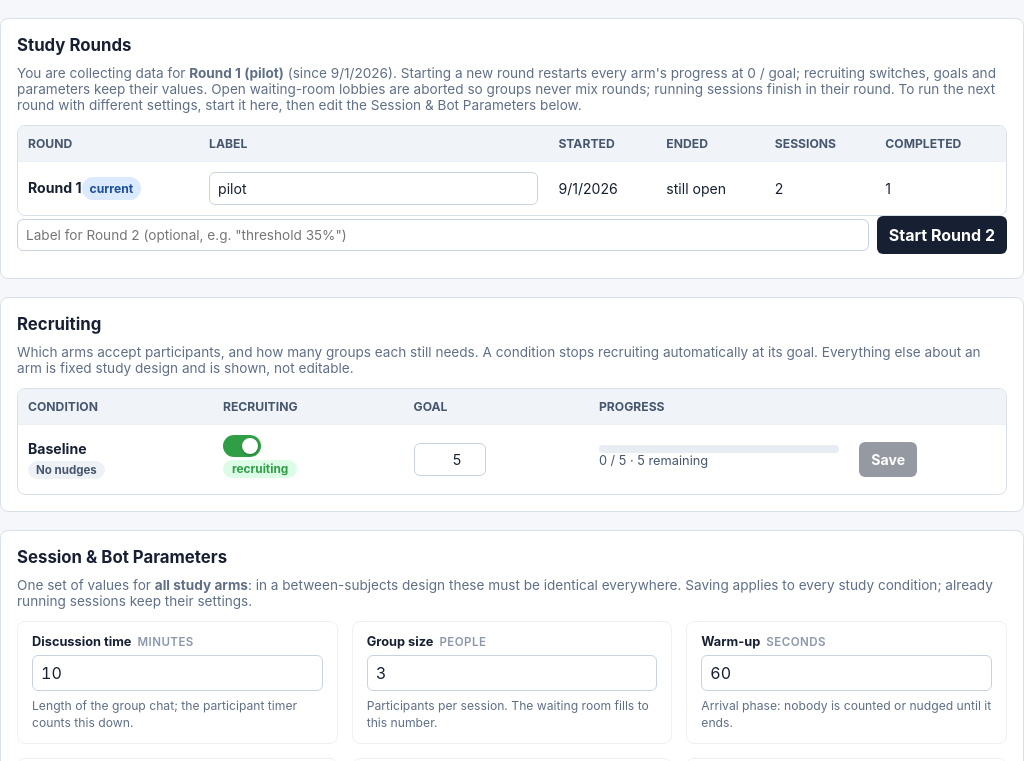
Test: Settings › reports a failed round start
Click the button "Start Round 2". click: coordinates (942, 235)
box: [877,216,1007,254]
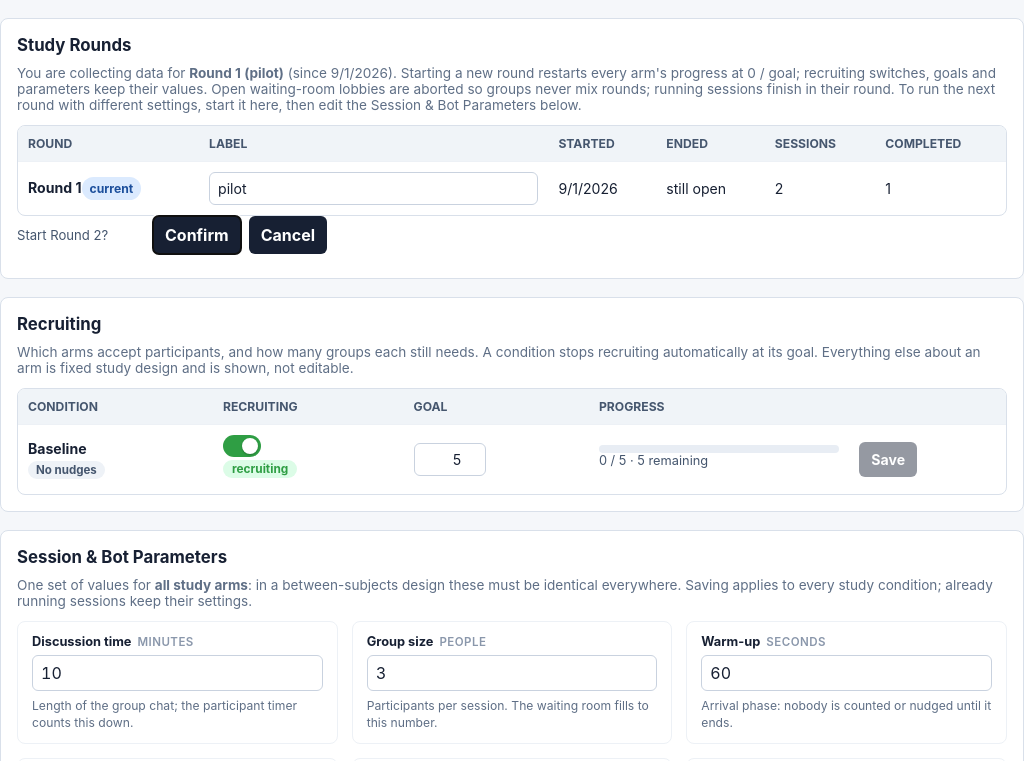
Check: the text "Start Round 2?" is shown, box [17,227,108,243]
Click the button "Confirm". click: coordinates (197, 235)
box: [153,216,241,254]
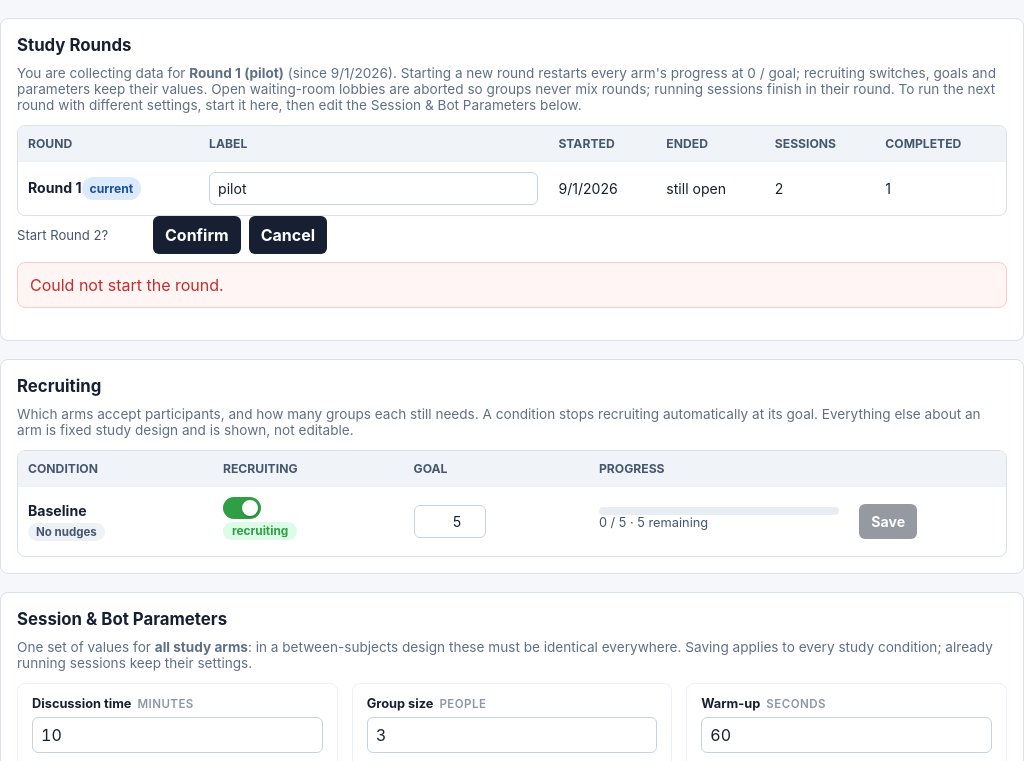
Check: the text "Could not start the round." is shown, box [17,262,1007,308]
